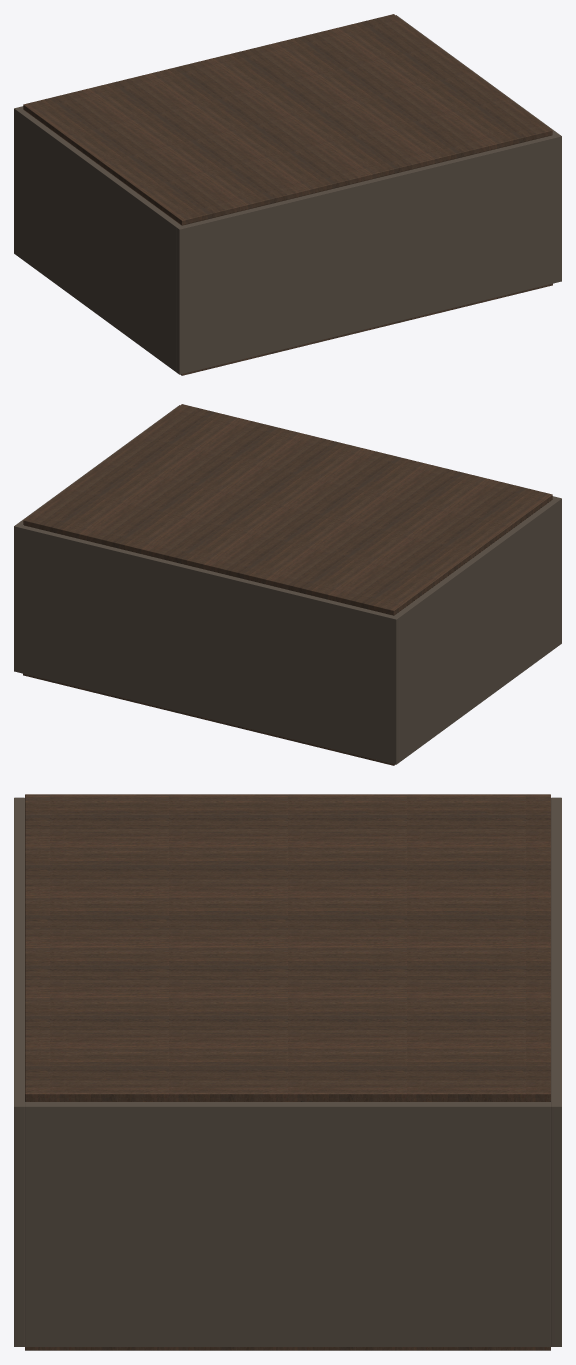
File: nocturne-desktop.glb
3 renders of one model, top to bottom at view 1: azimuth 30°, elevation 25°; view 2: azimuth 150°, elevation 25°; view 3: azimuth 270°, elevation 25°, orthographic. The views are drawn at different scales.
Parts seen in each view (by area): view 1: OVERHEAD_Ceiling finish, SHELL_south, SHELL_west, SHELL_Floor, SHELL_north, OVERHEAD_Smoked oak; view 2: OVERHEAD_Ceiling finish, SHELL_north, SHELL_west, SHELL_Floor, SHELL_south, OVERHEAD_Smoked oak; view 3: OVERHEAD_Ceiling finish, SHELL_east, SHELL_north, SHELL_south, SHELL_Floor.
Boxes of the visible parts, <box> form: OVERHEAD_Ceiling finish: <box>23,14,552,225</box>; SHELL_south: <box>176,134,561,374</box>; SHELL_west: <box>17,109,181,371</box>; SHELL_Floor: <box>180,283,552,375</box>; SHELL_north: <box>14,15,399,255</box>; OVERHEAD_Smoked oak: <box>24,110,551,225</box>; OVERHEAD_Ceiling finish: <box>23,404,552,615</box>; SHELL_north: <box>14,524,399,764</box>; SHELL_west: <box>394,499,558,761</box>; SHELL_Floor: <box>23,673,395,765</box>; SHELL_south: <box>176,405,561,645</box>; OVERHEAD_Smoked oak: <box>24,500,551,615</box>; OVERHEAD_Ceiling finish: <box>25,794,550,1101</box>; SHELL_east: <box>25,1102,550,1346</box>; SHELL_north: <box>551,797,561,1346</box>; SHELL_south: <box>14,797,24,1346</box>; SHELL_Floor: <box>25,1101,550,1350</box>.
Size of what is drawn, in the model's own units: 15.98 by 6.2 by 11.98.
Materials: 9 (4 with a texture image).
